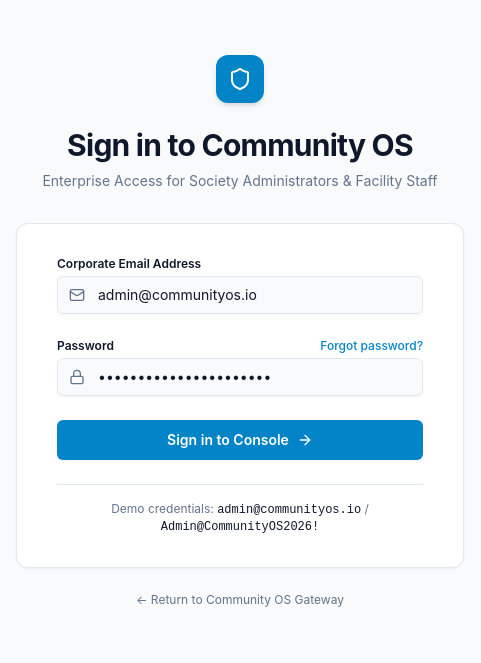
Test case: LoginPage › displays error message on authentication failure
The width and height of the screenshot is (481, 663).
Click the button "Sign in to Console" at (240, 440), box [57, 420, 423, 460]
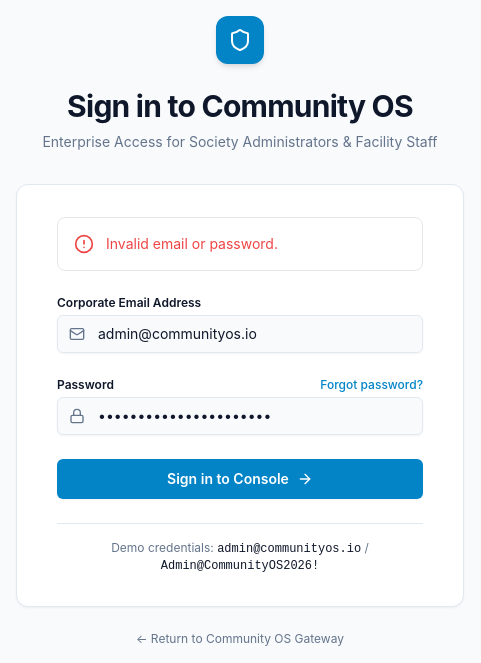
Now the text "Invalid email or password." is shown, box [106, 234, 278, 254]
